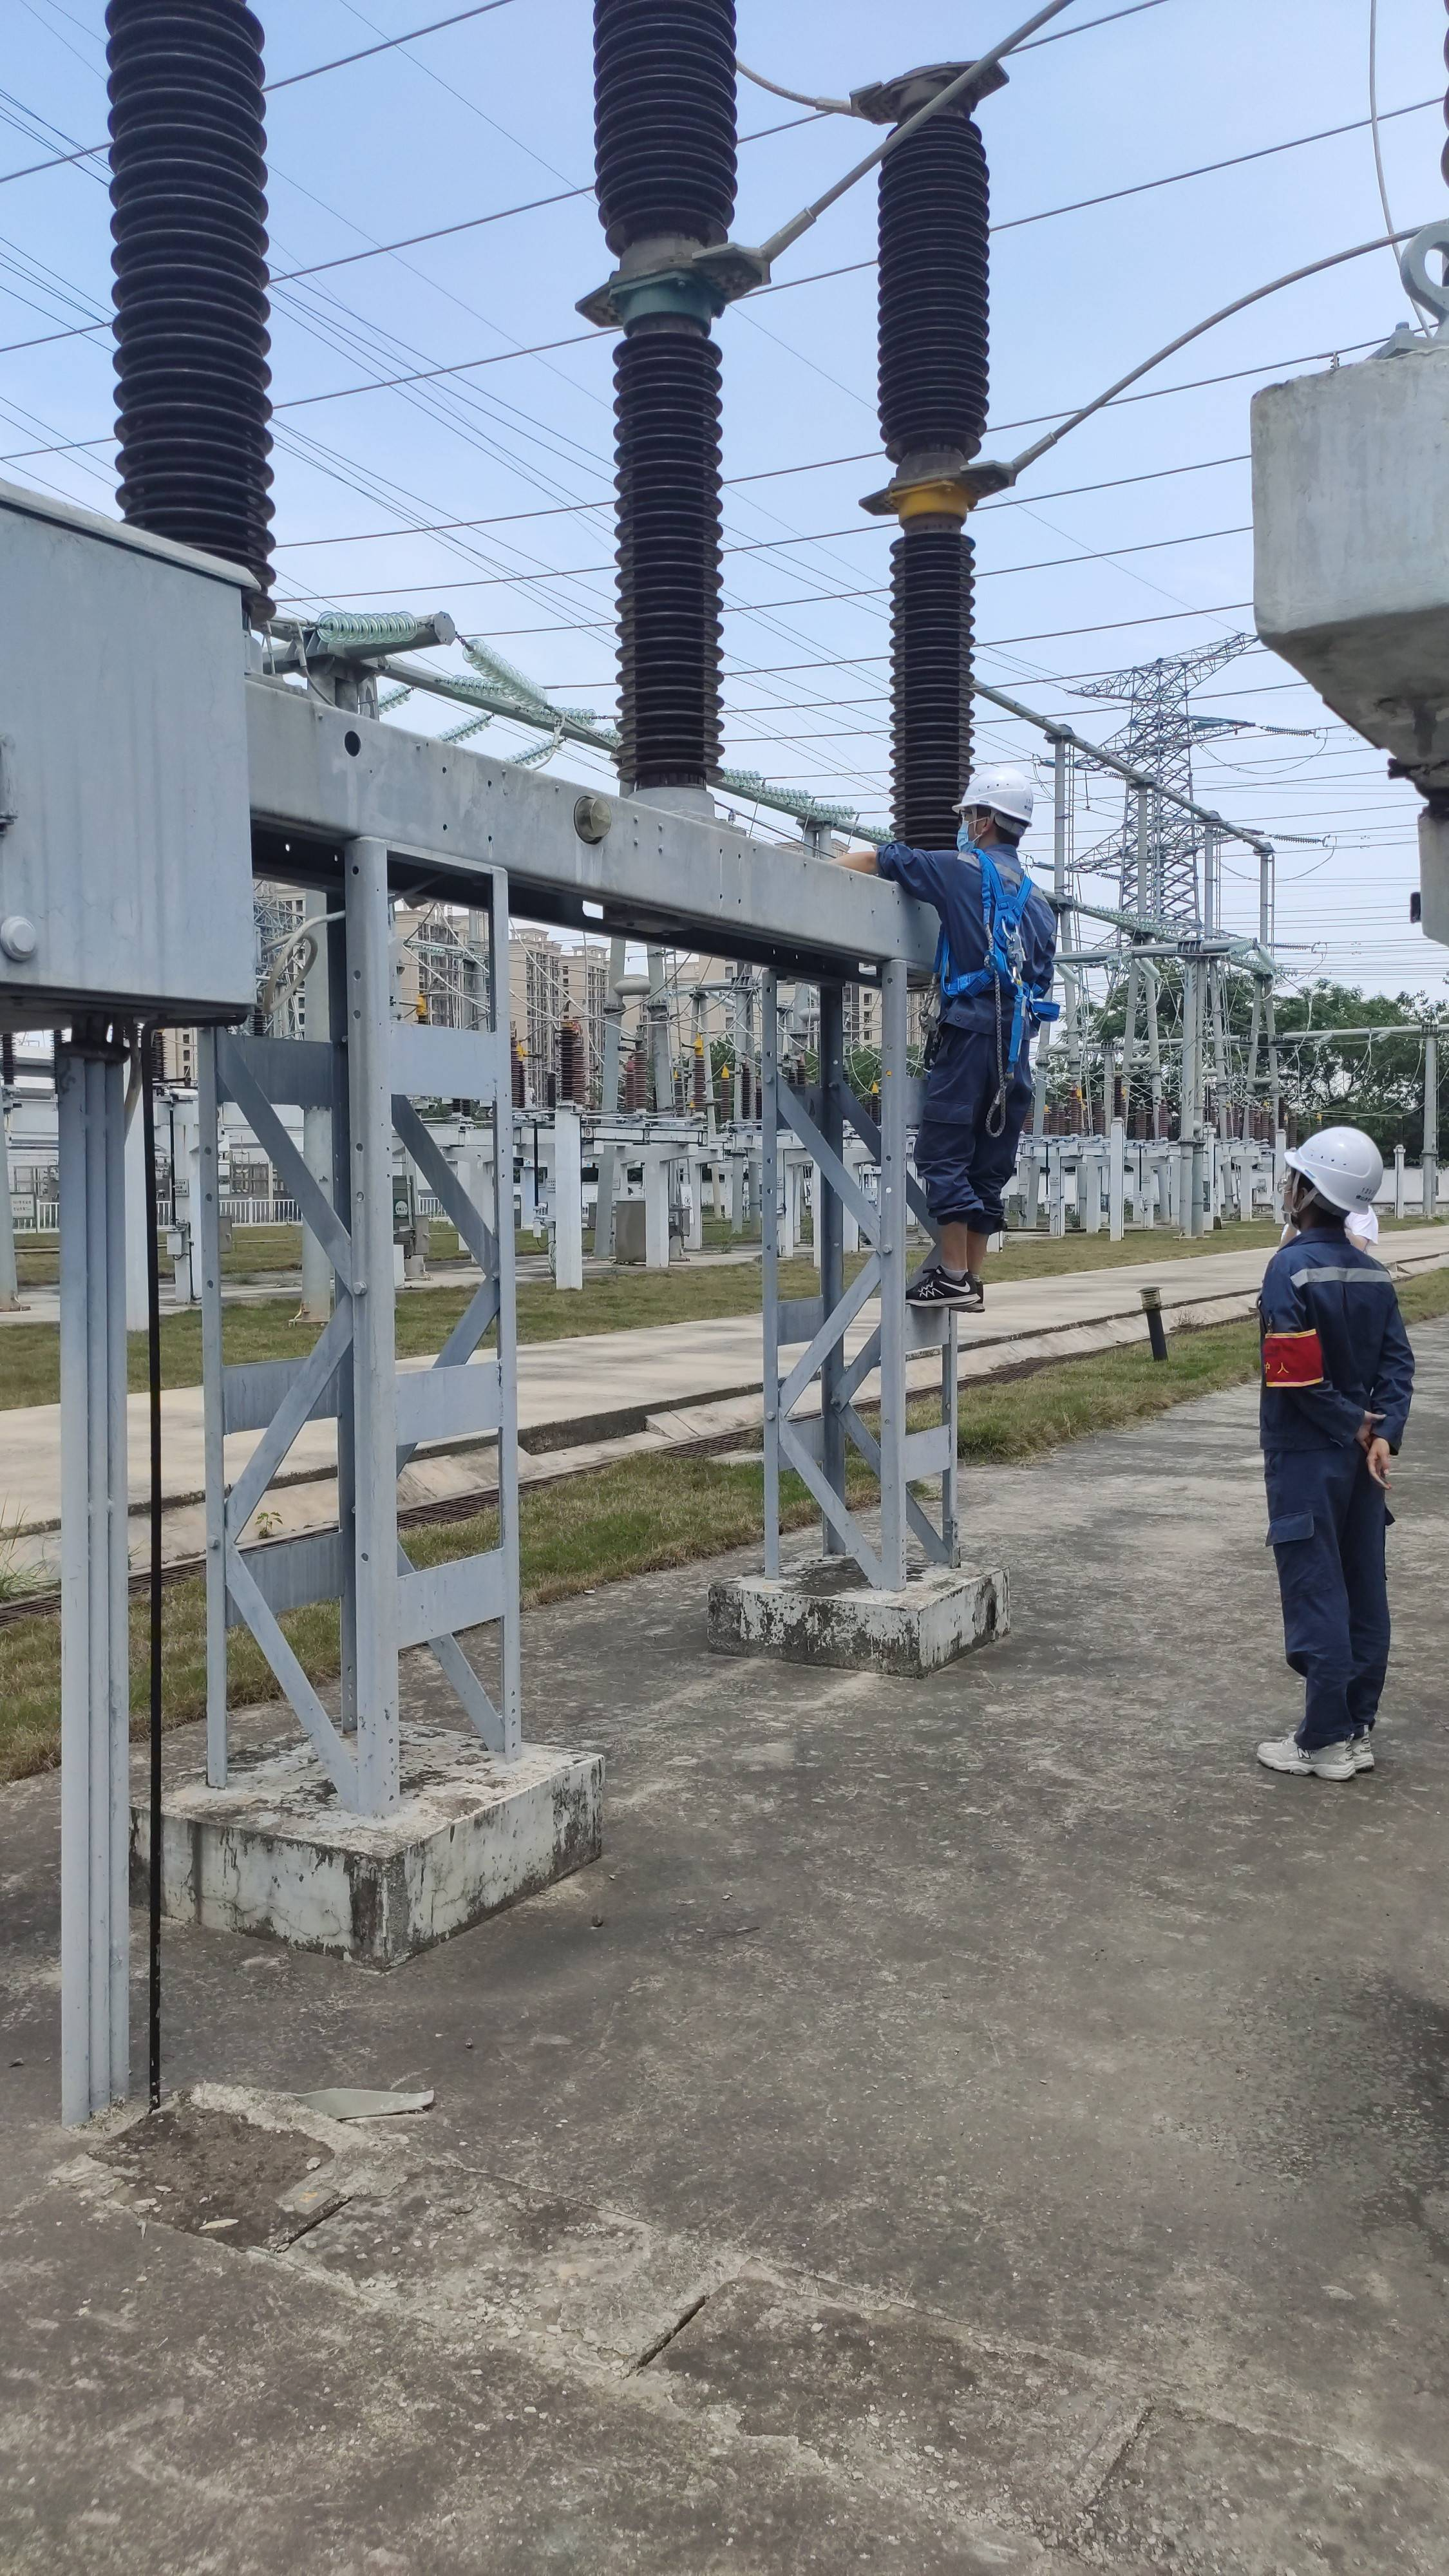downsuit: (1265, 1491, 1396, 1743), (913, 1030, 1039, 1230)
upsuit: (1256, 1230, 1417, 1458), (881, 835, 1058, 1016)
wrongbottom: (927, 1201, 1003, 1288)
